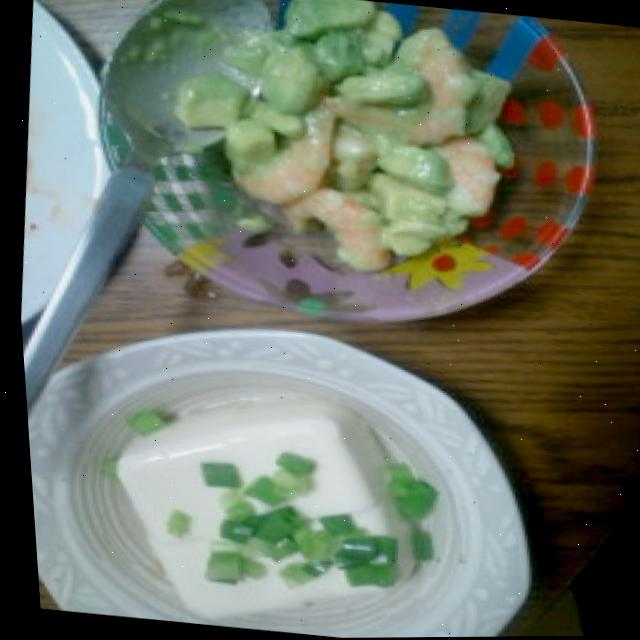豆腐料理: (71, 367, 443, 640)
